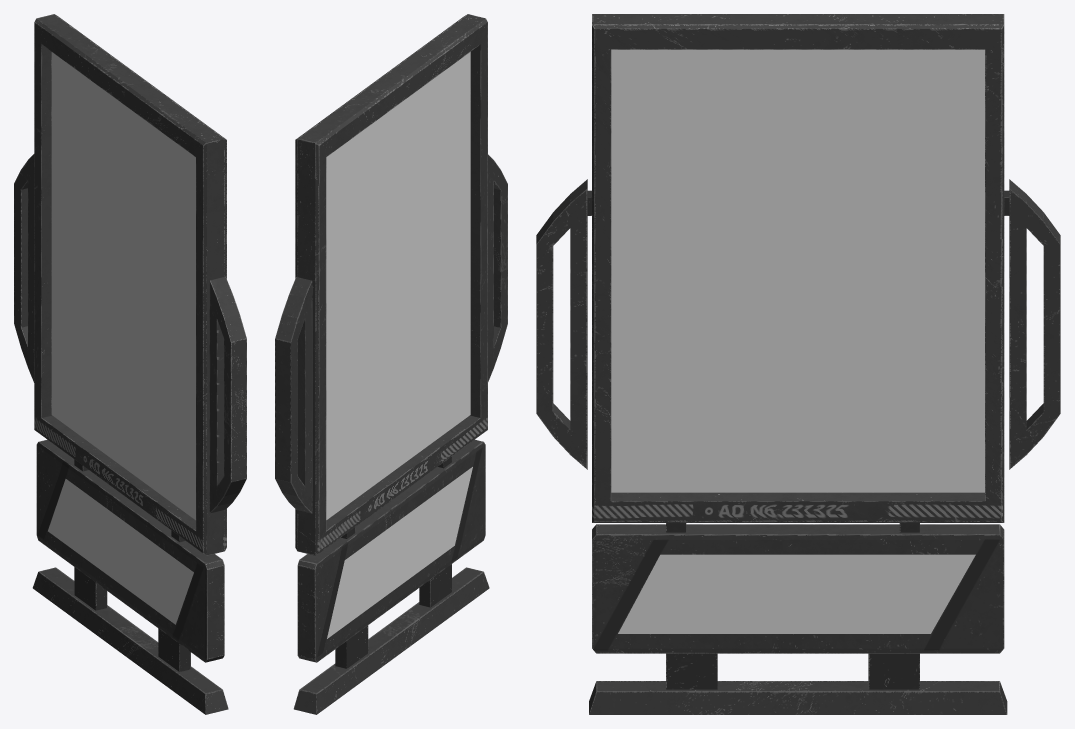
Rendered from NeonPlacate 1.fbx.
The picture shows the model from 3 angles, left to right: view 1: azimuth 30°, elevation 25°; view 2: azimuth 150°, elevation 25°; view 3: azimuth 270°, elevation 25°; orthographic projection. The views are drawn at different scales.
Parts seen in each view (by area): view 1: NeonPlacate; view 2: NeonPlacate; view 3: NeonPlacate.
Part boxes in pixels (x1=…): NeonPlacate: x1=14, y1=14, x2=246, y2=714; NeonPlacate: x1=275, y1=14, x2=507, y2=714; NeonPlacate: x1=536, y1=14, x2=1060, y2=714.
Bounding box in the file's own units: 13.95 × 320 × 221.
